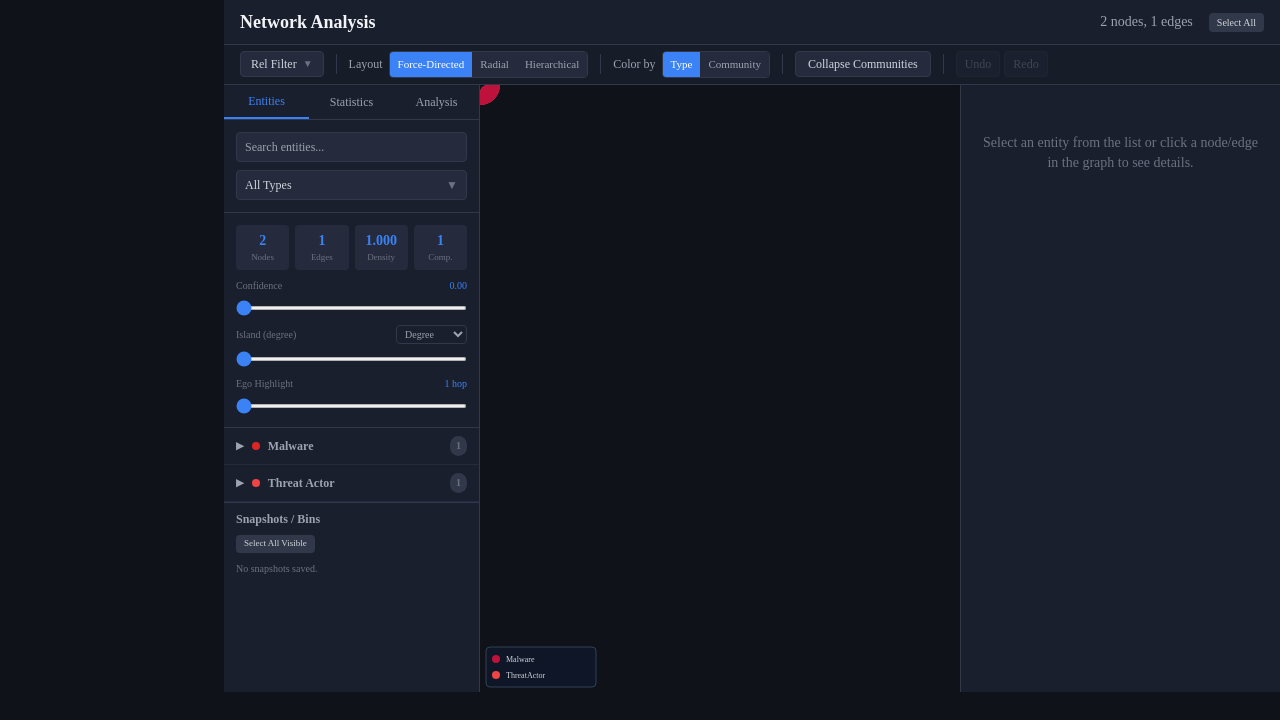
Scenario: network page › shows the edge overview and the centrality table on the Statistics tab
The width and height of the screenshot is (1280, 720).
Expected: the text "2 nodes, 1 edges" is shown, [1100,12,1193,32]
Click the button "Statistics" at [352, 102], box [309,84,394,118]
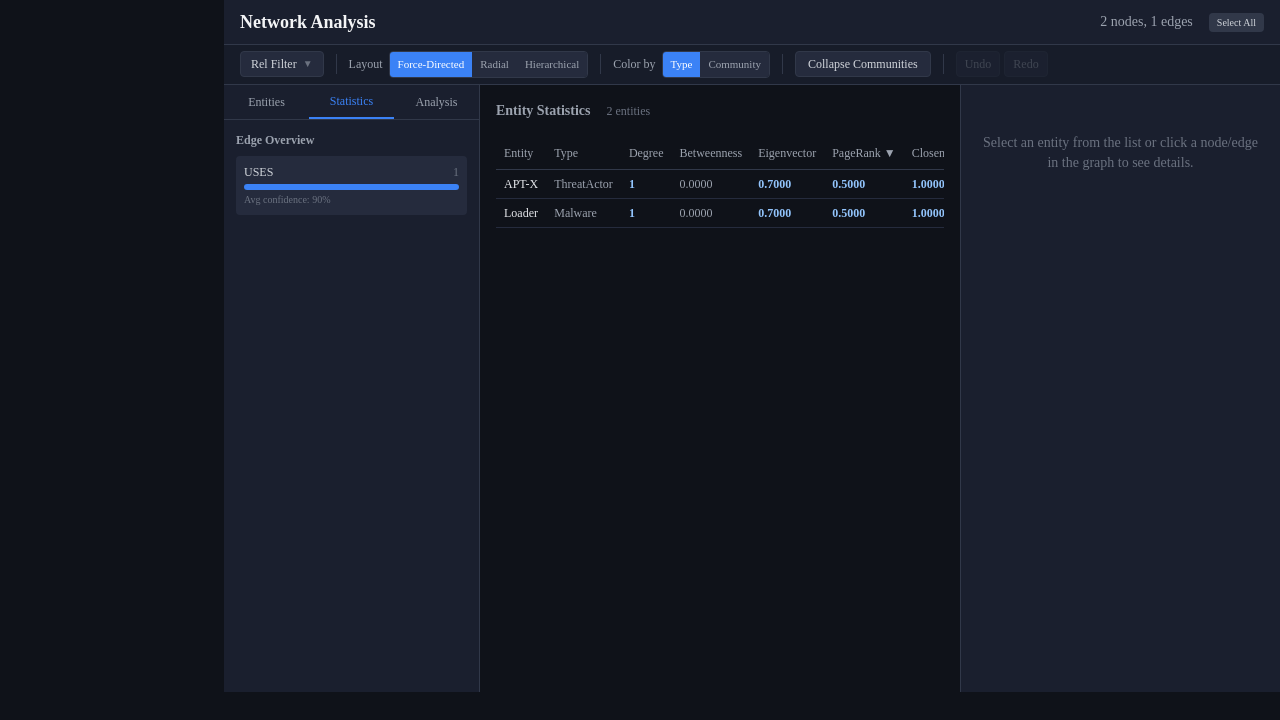
Expected: the text "Loader" is shown, [496,198,546,227]
Now the heading "Edge Overview" is shown, box [236,132,314,146]
Now the text "Avg confidence: 90%" is shown, box [244,194,330,204]
